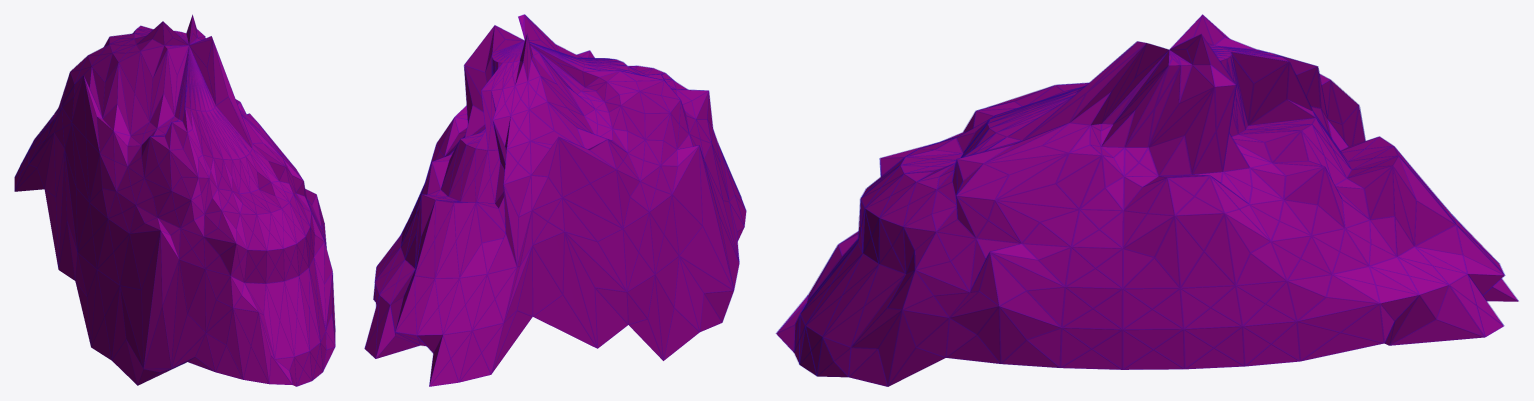
File: skala.fbx
The picture shows the model from 3 angles, left to right: view 1: azimuth 30°, elevation 25°; view 2: azimuth 150°, elevation 25°; view 3: azimuth 270°, elevation 25°; orthographic projection. The views are drawn at different scales.
Parts seen in each view (by area): view 1: mountain.001; view 2: mountain.001; view 3: mountain.001.
Boxes of the visible parts, x1,y1,x2,y2 form: mountain.001: (14, 14, 335, 386); mountain.001: (364, 14, 746, 386); mountain.001: (776, 14, 1518, 386).
Size of the model in its own units: 2191 by 3093 by 5286.
